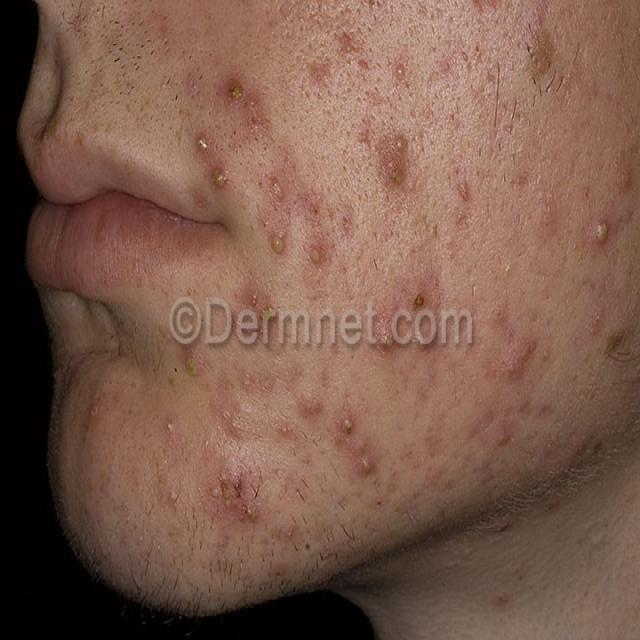Acne: (378, 133, 411, 190), (210, 468, 244, 518), (503, 338, 537, 382), (352, 448, 383, 480), (266, 225, 290, 265), (334, 406, 358, 446), (303, 236, 330, 270), (296, 393, 325, 423), (407, 278, 431, 314), (267, 170, 290, 207), (222, 75, 247, 109), (207, 160, 231, 195), (336, 26, 361, 59), (239, 496, 263, 530), (183, 344, 205, 380), (304, 192, 326, 227), (84, 394, 106, 426), (374, 325, 394, 359), (192, 129, 212, 161), (493, 422, 513, 451), (274, 417, 297, 442), (392, 59, 411, 88), (280, 520, 300, 546), (162, 412, 179, 440), (455, 179, 471, 208)
